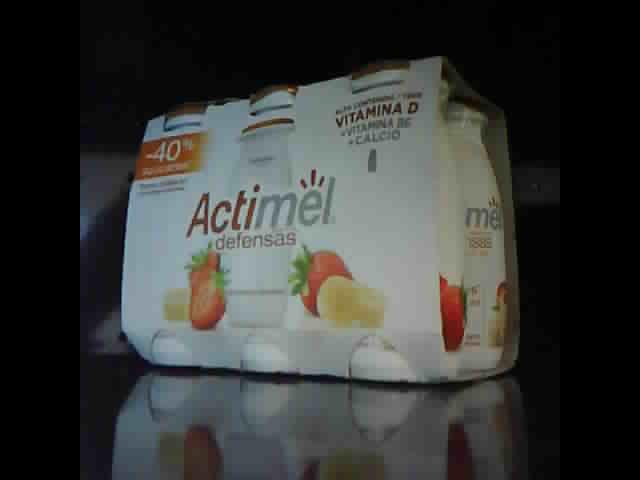actimel: (121, 56, 522, 386)
